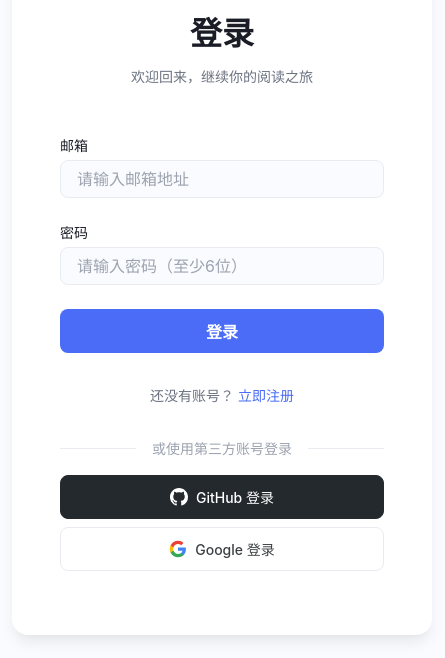
Scenario: LoginPage › disables submit button while loading
This screenshot has width=445, height=658.
Step 1. Type "test@example.com" into the field with id "email" → point(222, 178), box x1=60 y1=160 x2=384 y2=198
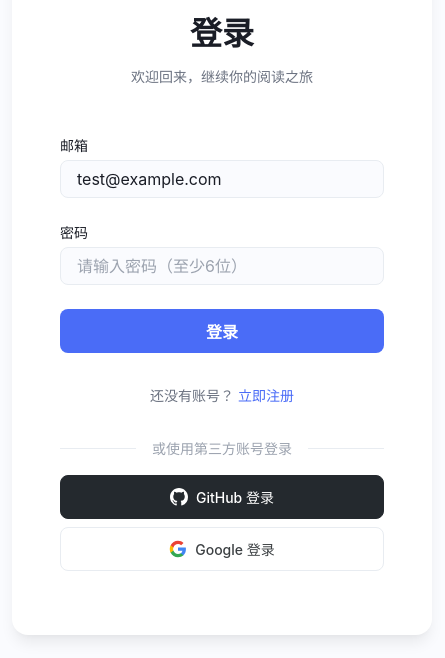
Step 2. Type "123456" into the password field labelled "密码" → point(222, 266), box x1=60 y1=246 x2=384 y2=284
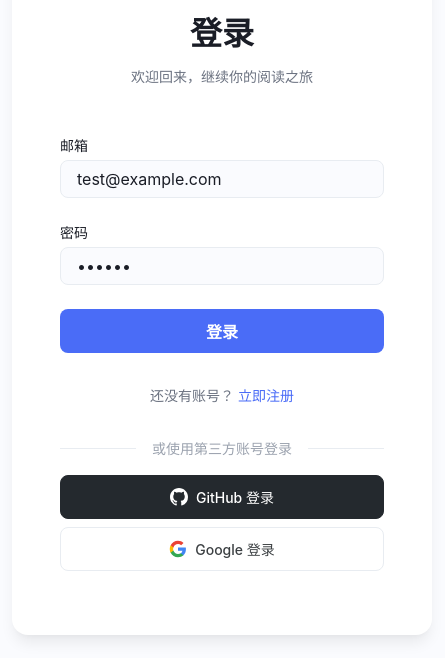
Step 3. Submit the form, box x1=60 y1=134 x2=384 y2=352
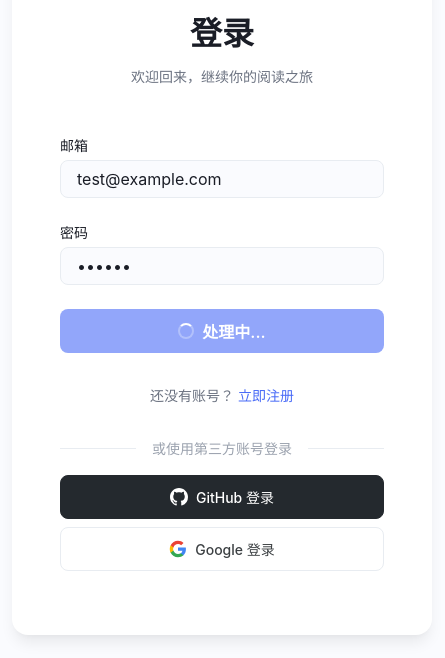
expect the button with class "form-submit" is disabled: met, box x1=60 y1=308 x2=384 y2=352
expect the button with class "form-submit" shows "处理中": met, box x1=60 y1=308 x2=384 y2=352
